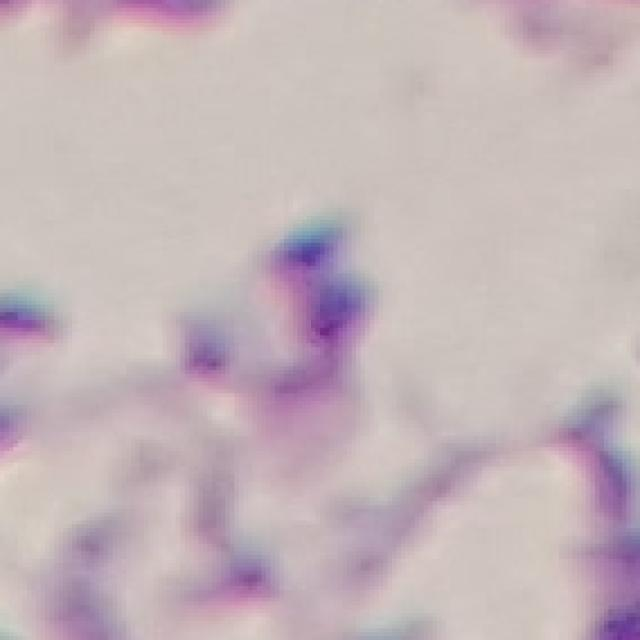non-sperm: (135, 217, 417, 501)
